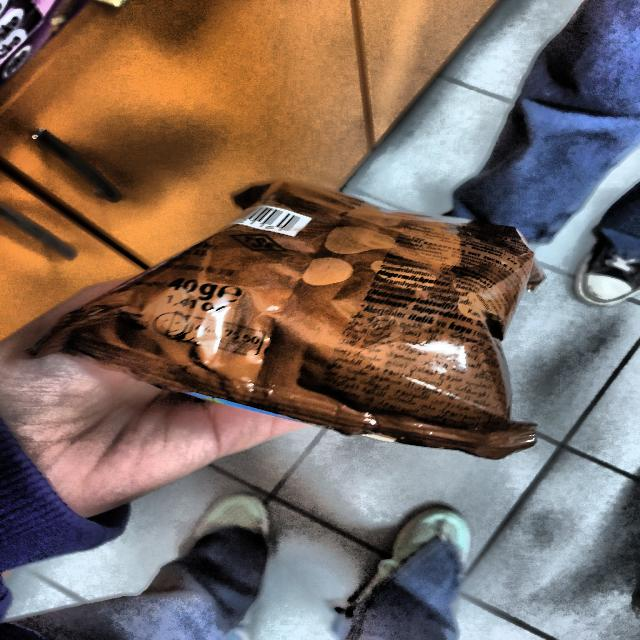Plastic: (95, 179, 563, 457)
